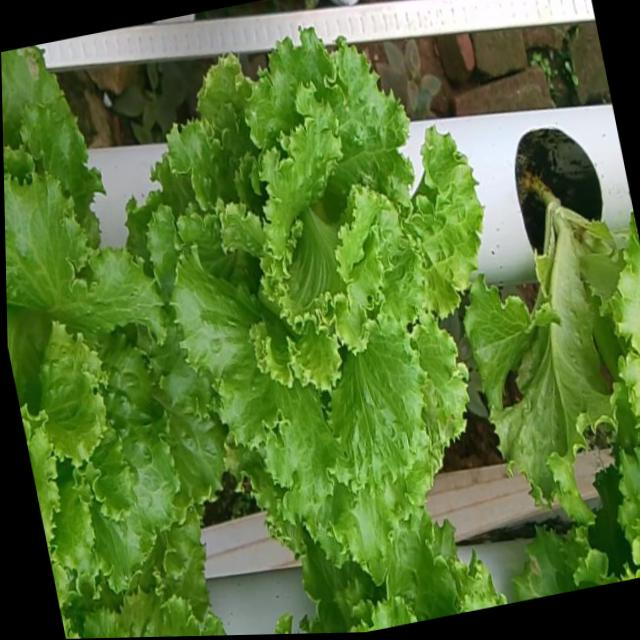Mature: (150, 10, 488, 552), (3, 146, 230, 576)
